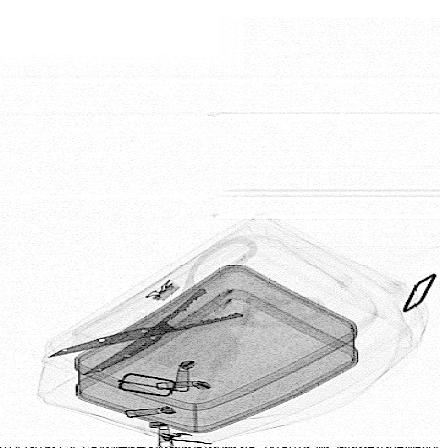Scissors: (50, 238, 327, 375)
